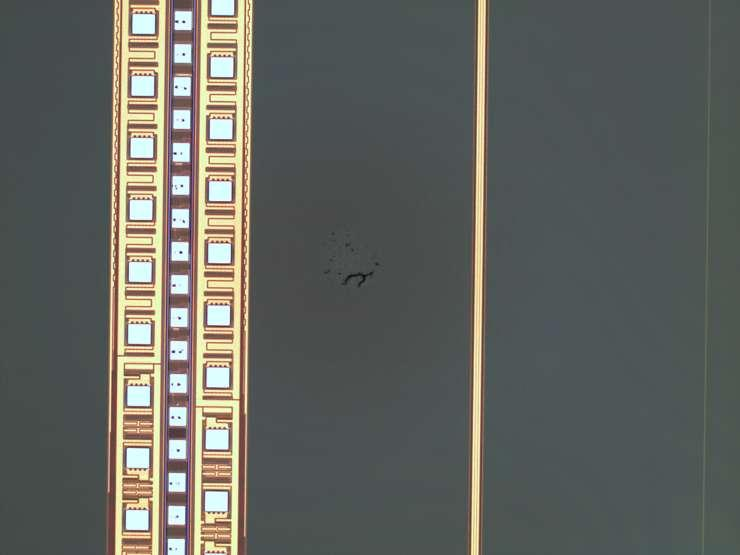PIQ PARTICLE: (313, 213, 396, 308)
